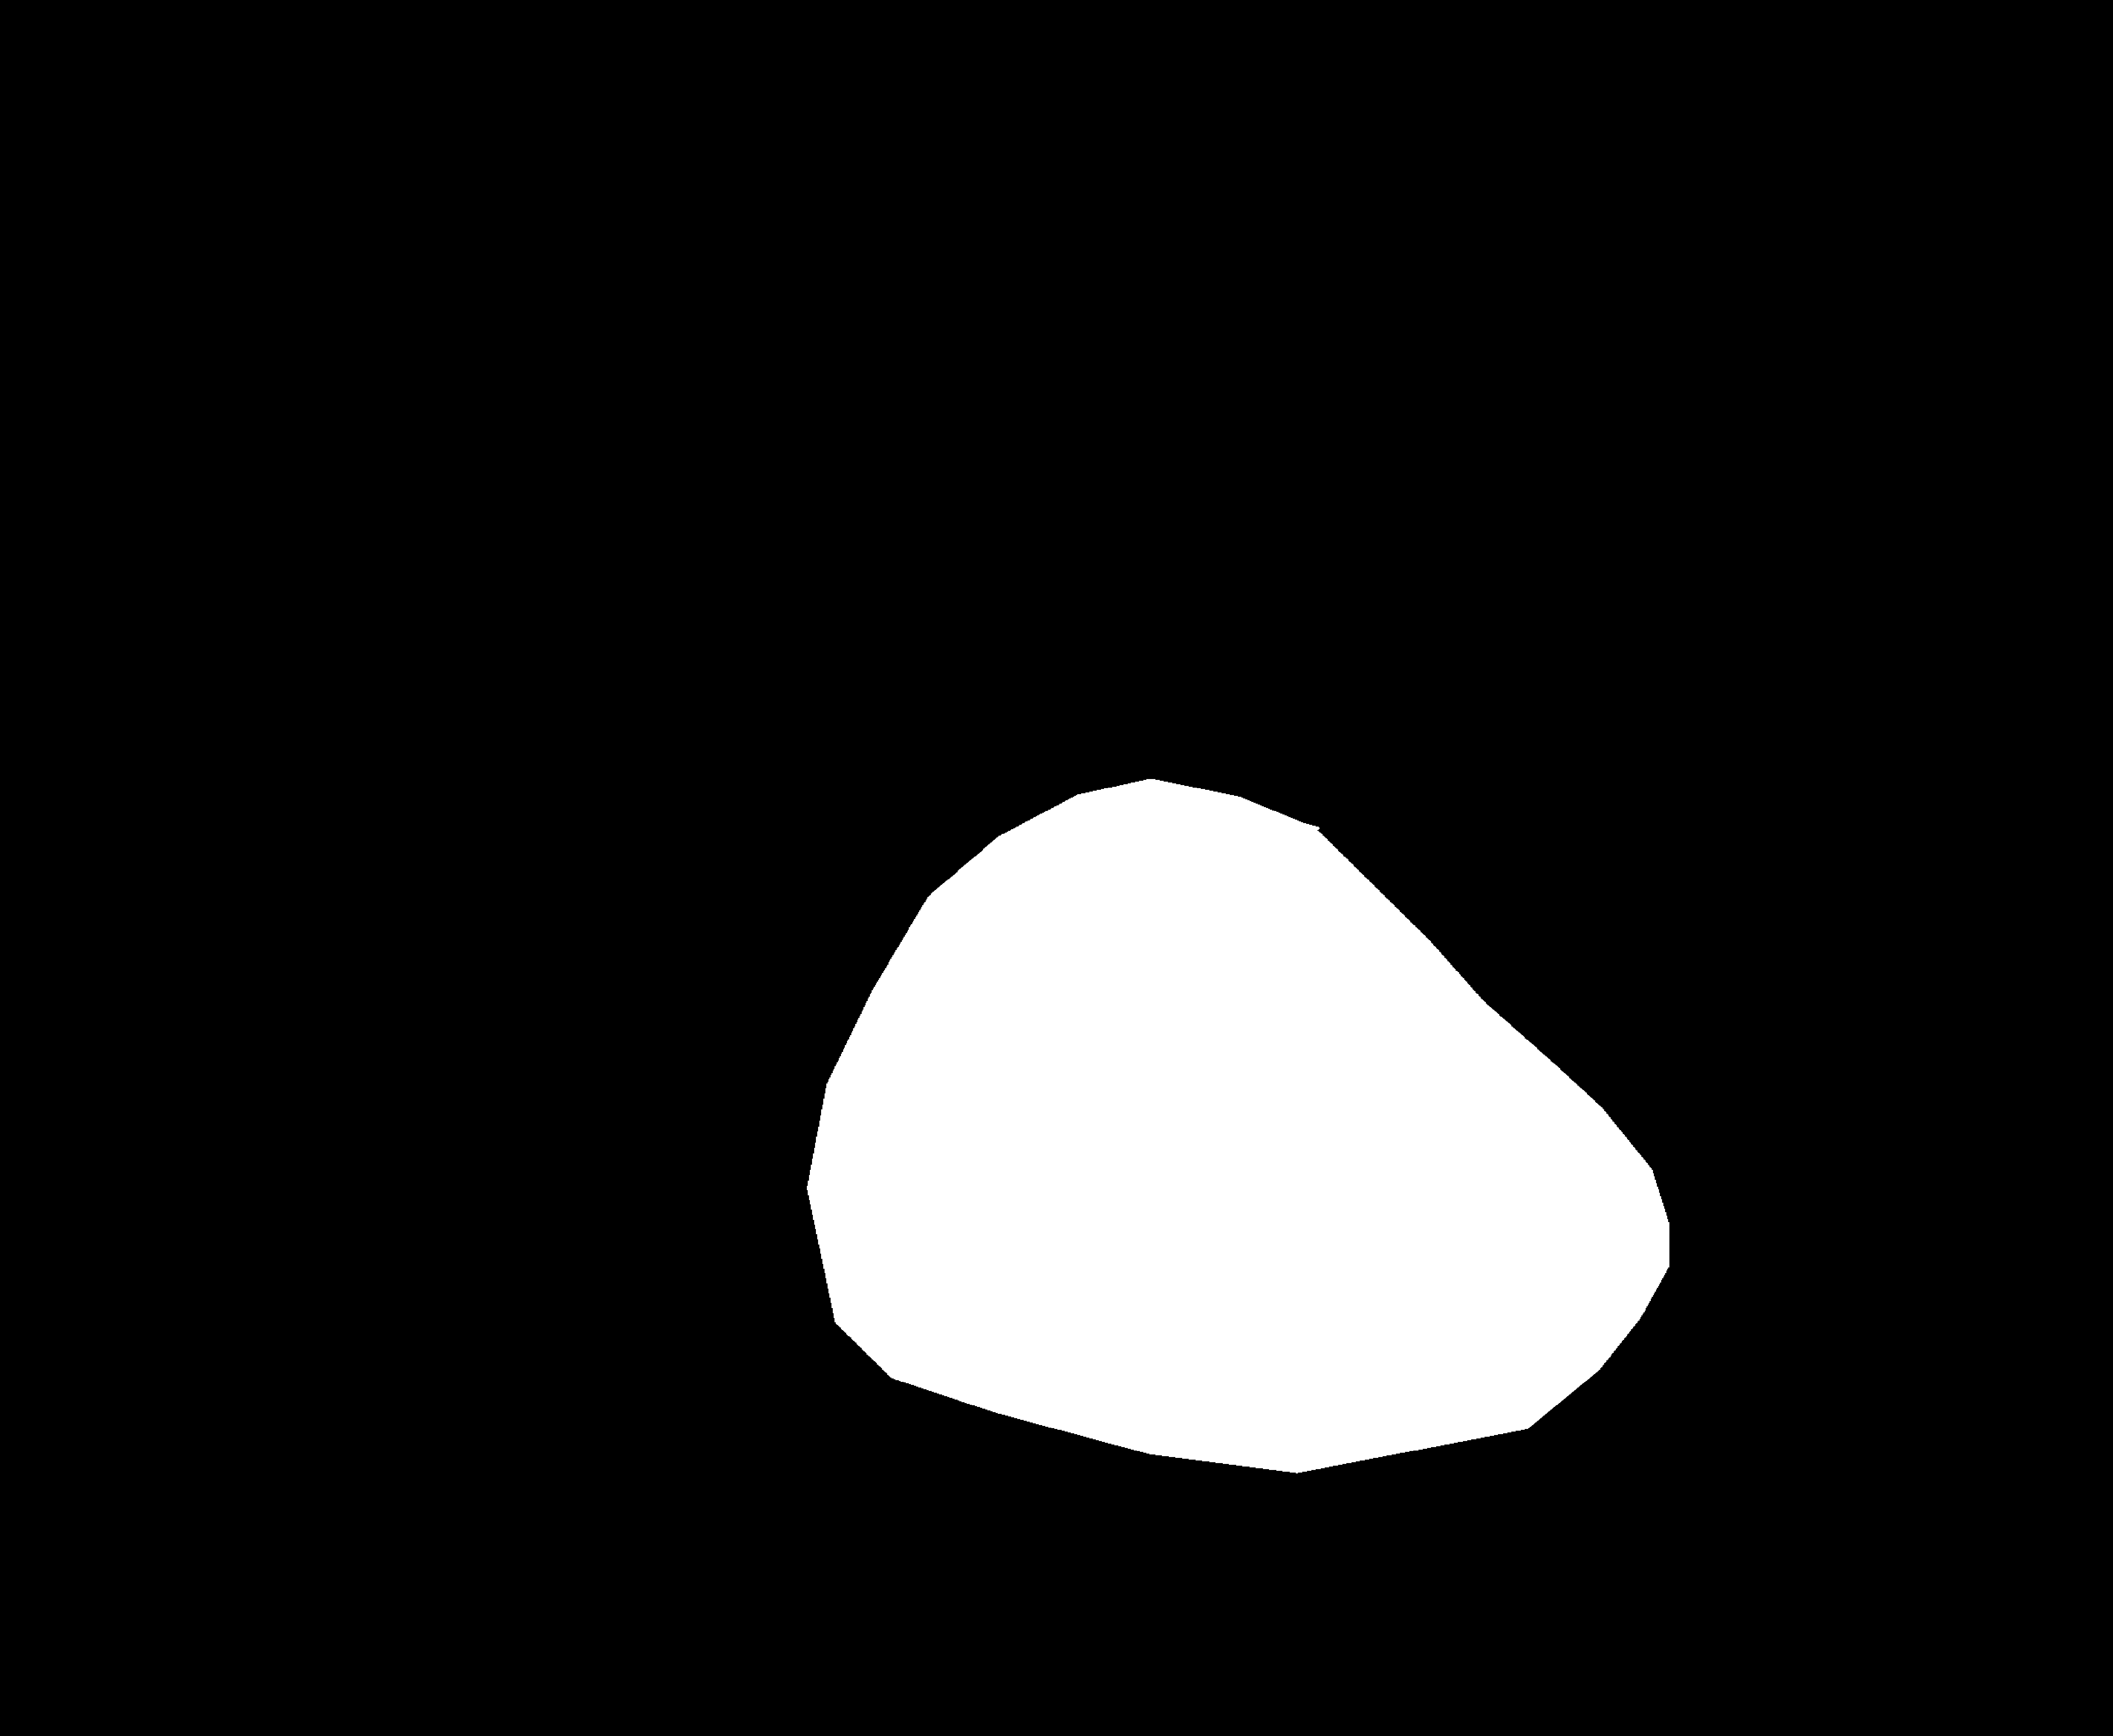heart: (706, 893, 1741, 1559)
left_lung: (218, 265, 1004, 1717)
right_lung: (1167, 205, 1966, 1652)
